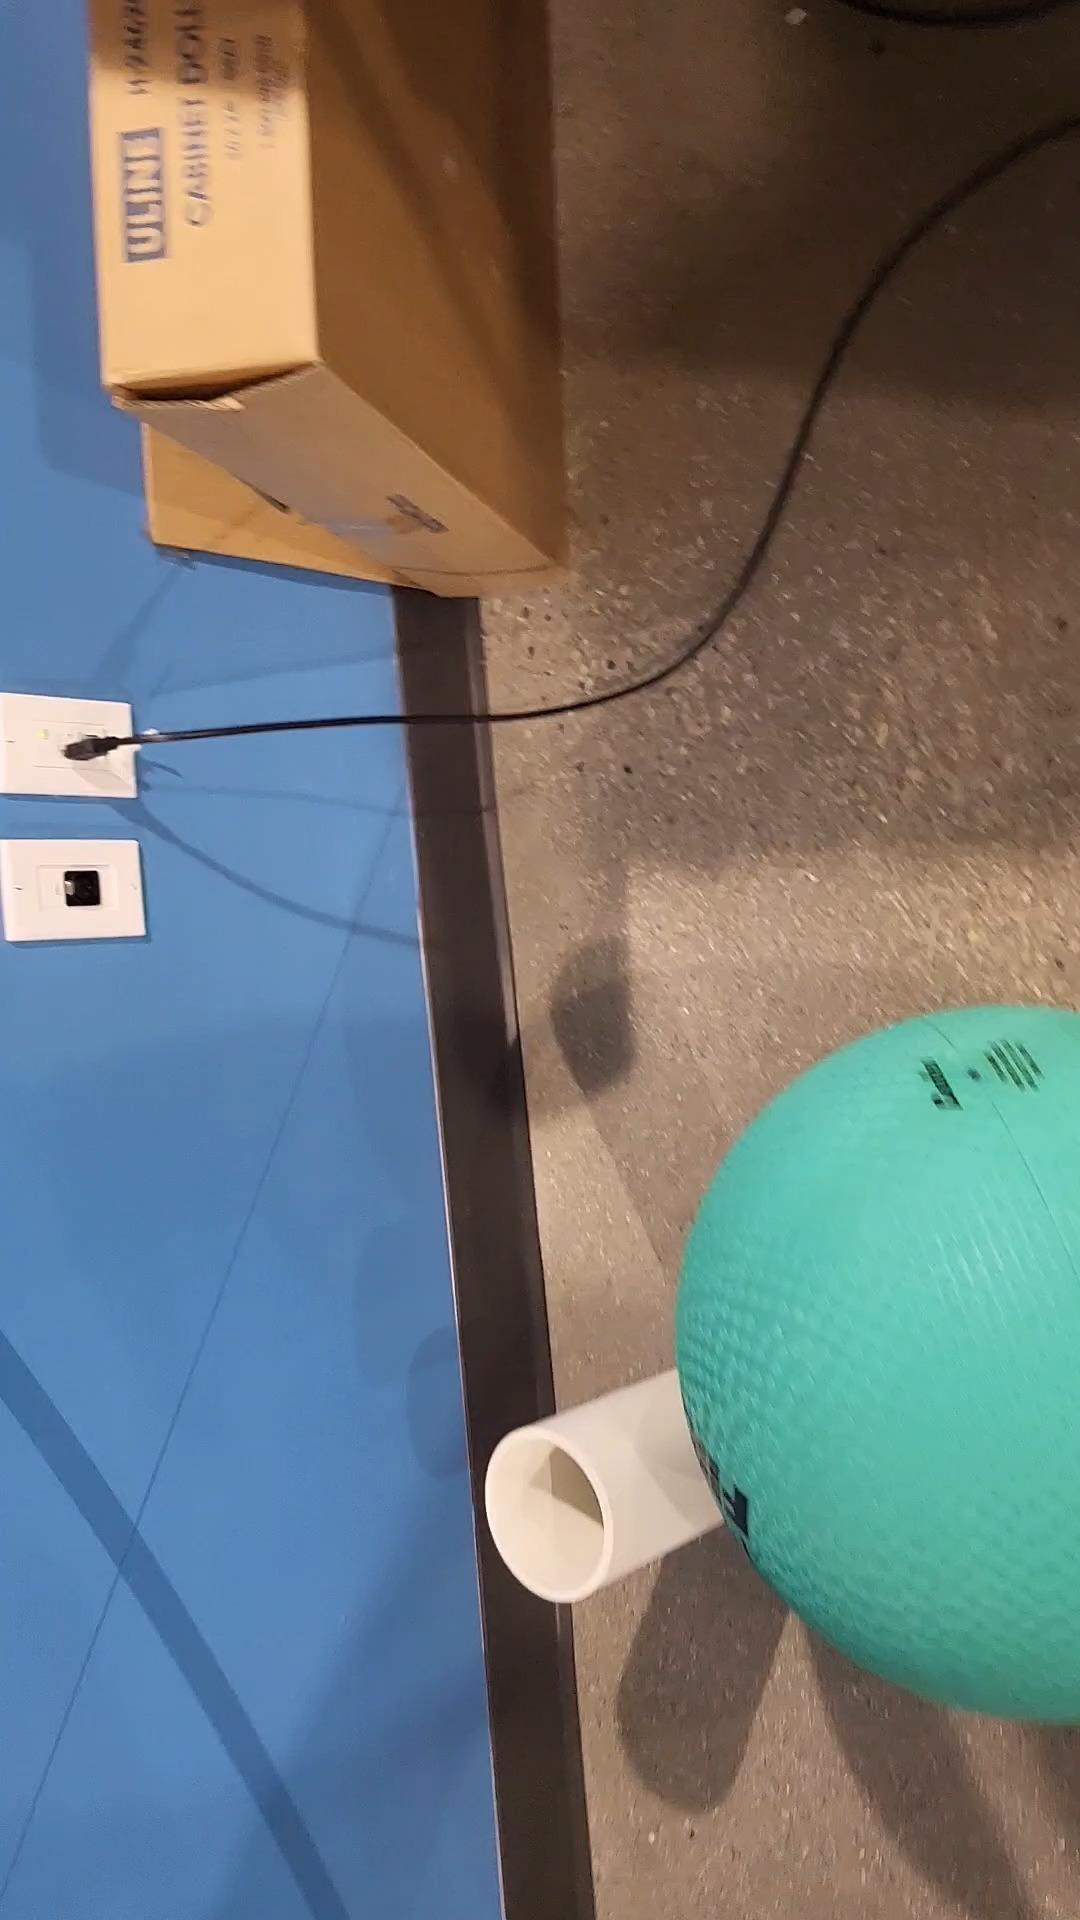algae: (680, 984, 1080, 1726)
coral: (491, 1358, 731, 1593)
